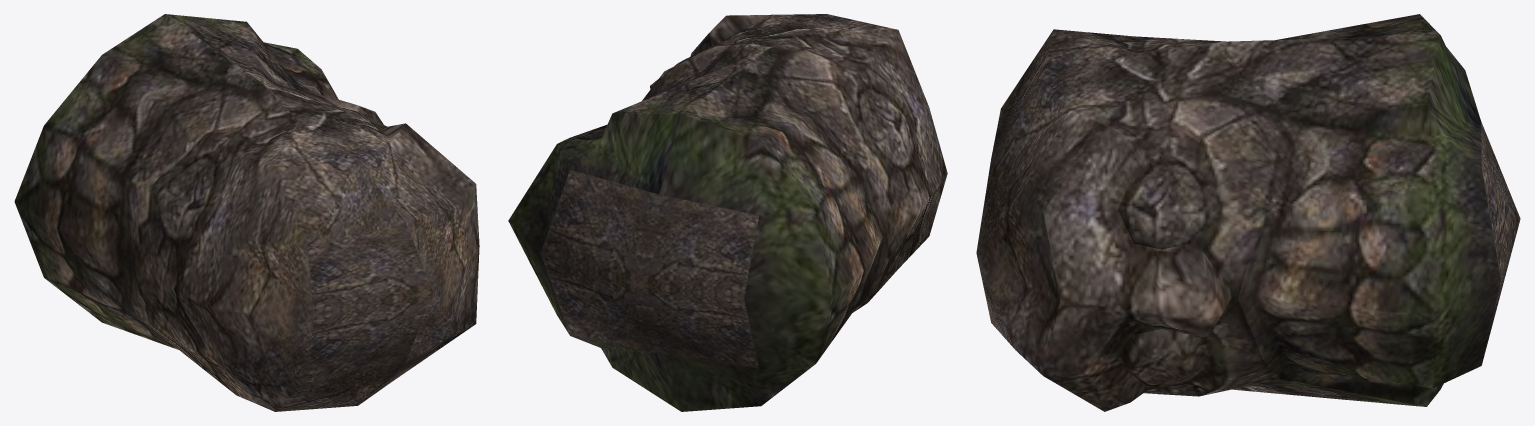
3 renders of one model, left to right at view 1: azimuth 30°, elevation 25°; view 2: azimuth 150°, elevation 25°; view 3: azimuth 270°, elevation 25°, orthographic. The views are drawn at different scales.
Visible parts, largest first — view 1: model_Object24; view 2: model_Object24; view 3: model_Object24.
Part boxes in pixels (x1,y1,x2,y2): model_Object24: (14,14,479,411); model_Object24: (508,14,947,411); model_Object24: (976,14,1520,411).
Size of the model in its own units: 4.51 by 3.88 by 5.41.
Materials: 1 (1 with a texture image).
